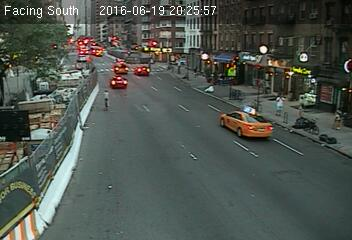neg: (95, 85, 116, 113), (250, 71, 262, 86), (226, 83, 236, 97)
pos: (331, 106, 349, 131), (272, 94, 289, 116), (295, 94, 309, 113), (191, 66, 201, 78)
